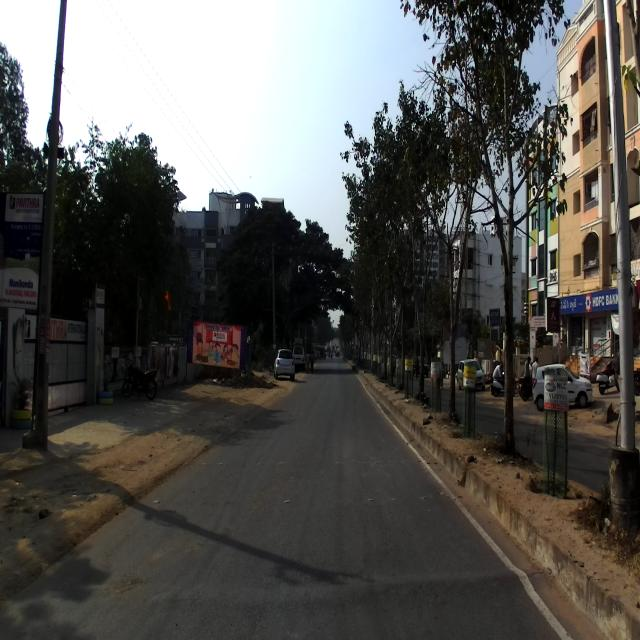electric pole ahead at: (37, 11, 67, 454)
